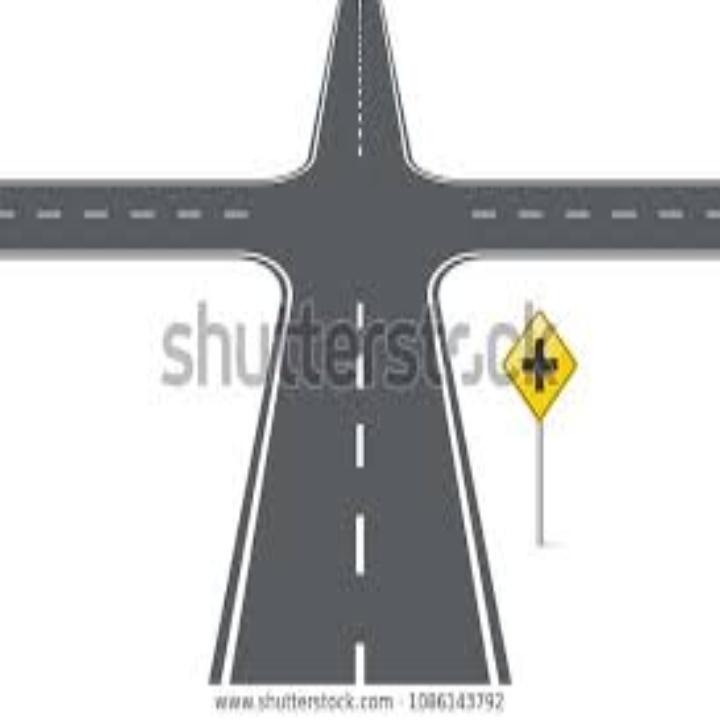inter: (514, 333, 561, 396)
